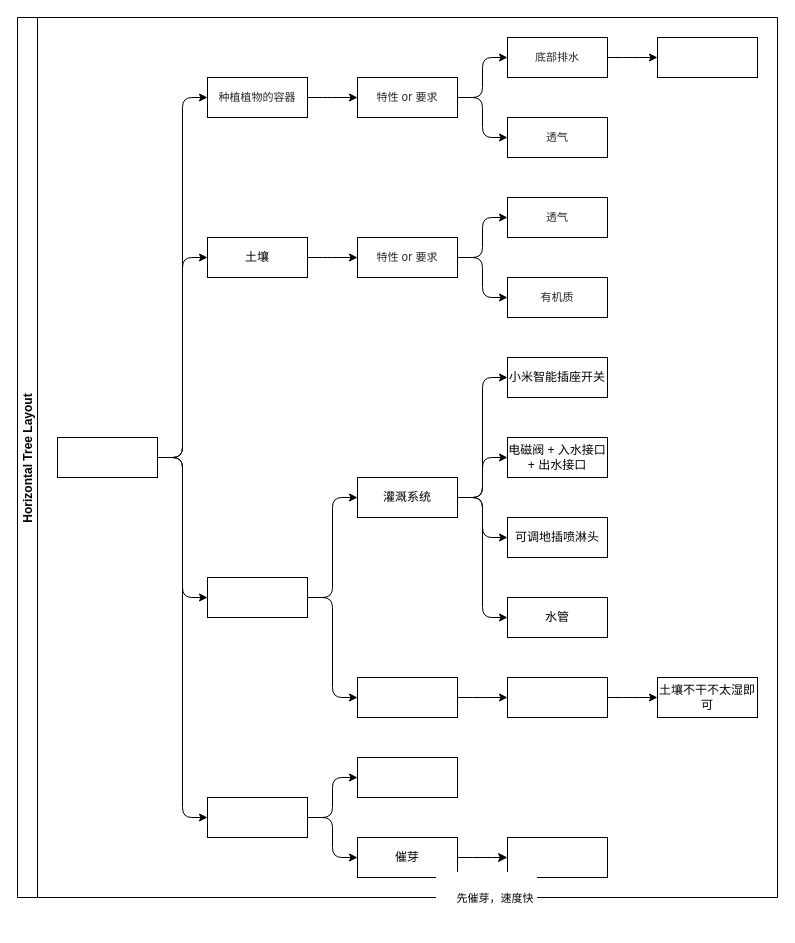
Some shapes in this 795 by 943 pixel diagram are drawn without their labels. Each missing label, with the box of its shape:
保持土壤湿润: (506, 676, 608, 718)
排掉积水，防止积水导致植物根部腐烂: (656, 36, 758, 78)
播种: (506, 836, 608, 878)
植物: (206, 796, 308, 838)
灌溉: (206, 576, 308, 618)
灌溉技巧: (356, 676, 458, 718)
直接播种: (356, 756, 458, 798)
种植经验: (56, 436, 158, 478)
